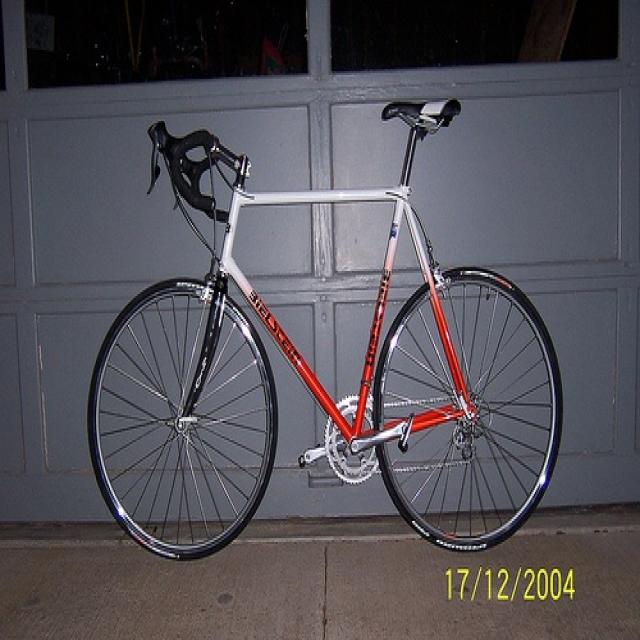bicycle: (85, 98, 567, 561)
